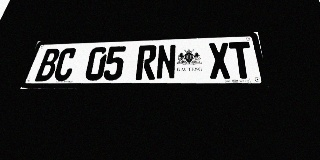0: (84, 47, 108, 81)
5: (103, 46, 126, 80)
B: (34, 48, 61, 81)
C: (52, 48, 78, 81)
N: (156, 44, 176, 80)
R: (135, 45, 157, 80)
T: (229, 42, 255, 79)
X: (208, 42, 232, 79)
